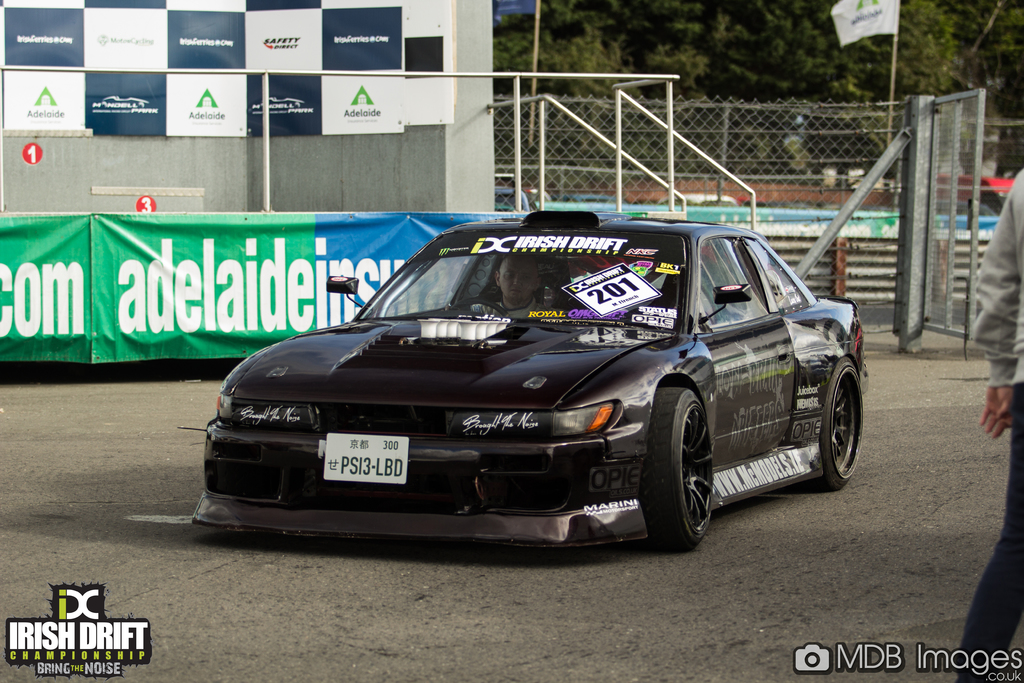Car: (197, 206, 875, 545)
